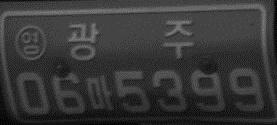0: (16, 71, 50, 117)
3: (152, 69, 188, 114)
5: (114, 70, 151, 113)
6: (51, 71, 84, 115)
9: (228, 68, 265, 113), (190, 69, 226, 112)
광주_D: (67, 19, 194, 61)
마: (85, 75, 113, 109)
영: (13, 23, 47, 61)
